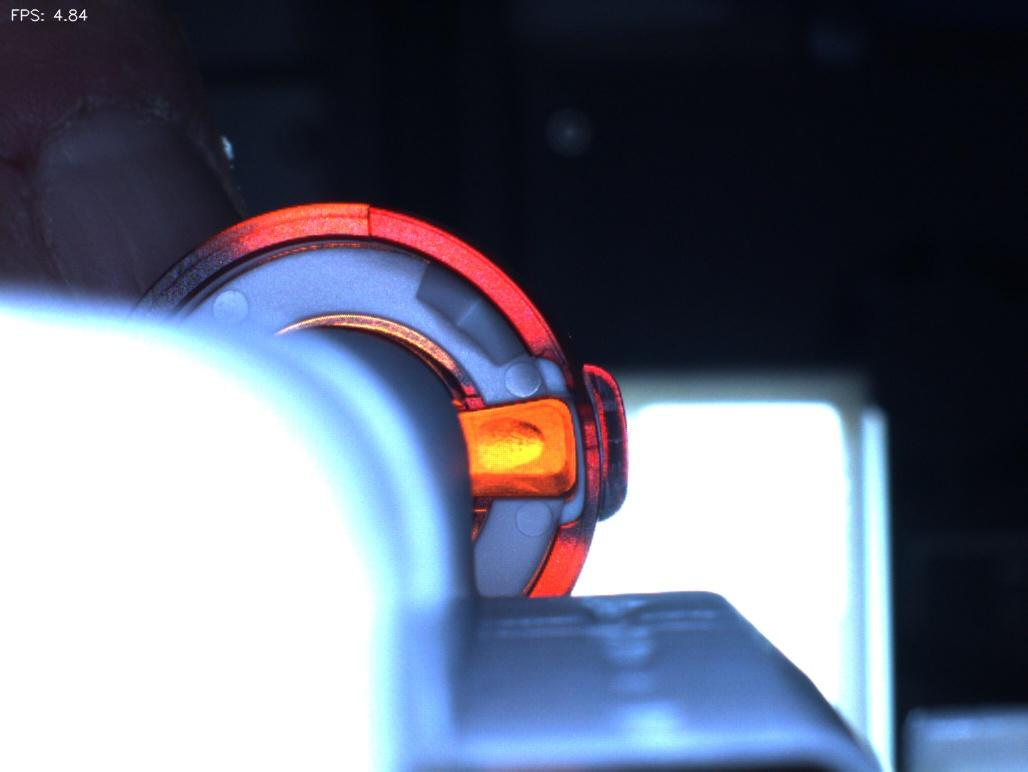Retassure: (470, 400, 557, 481)
